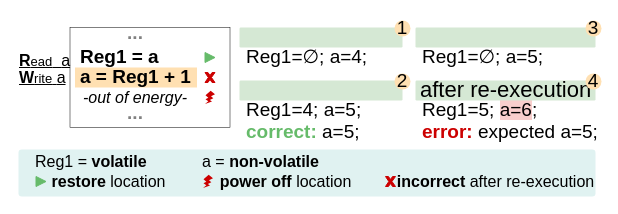
Image size: 618x214. Some labels were removed from this diagram. Here are the shapes that lost their labels. From the top down, the box of each, then its label:
(239, 27, 402, 47): initial state
(415, 27, 595, 47): after restart
(239, 80, 402, 100): before power off
